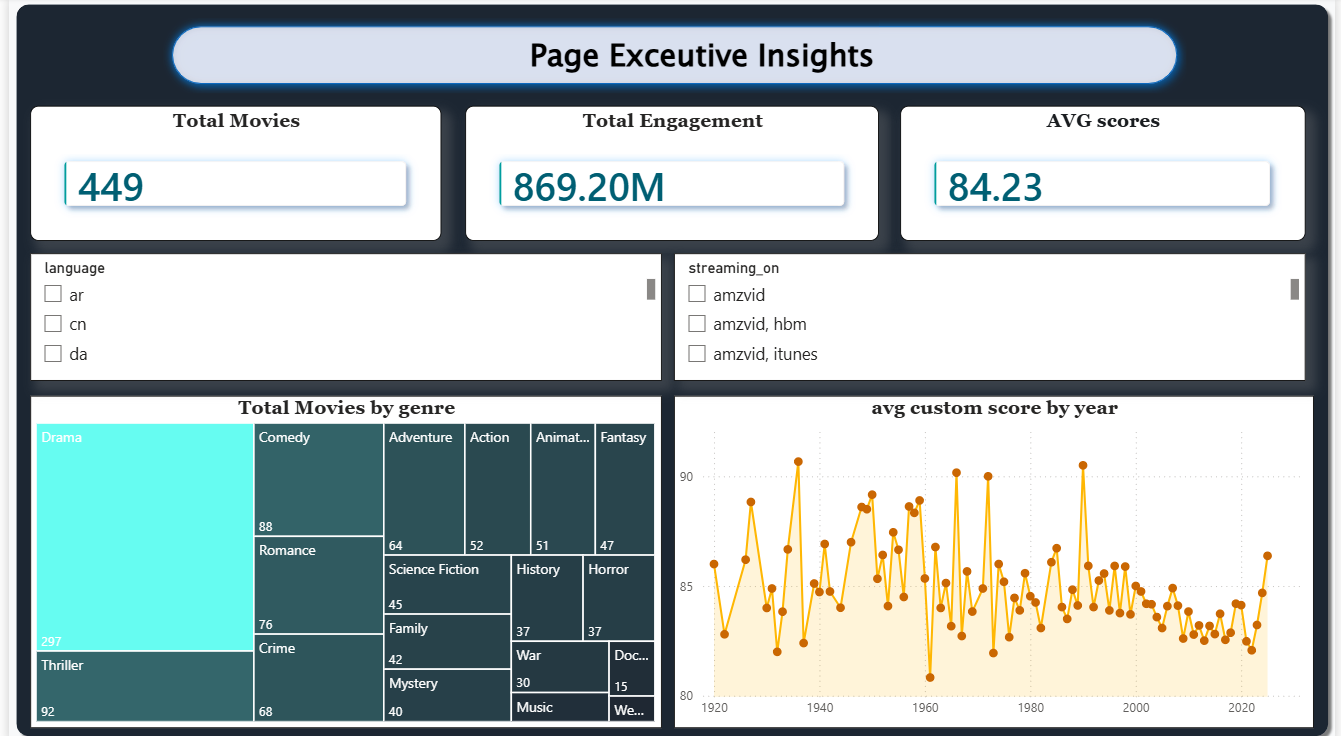

The page's visual inventory and layout, read from the dashboard file:
{"tool":"powerbi","page":{"name":"Page Executive Insights","canvas":[1280,720],"ordinal":0},"visuals":[{"type":"shape","box":[0,0,1280.3,720.4],"z":0},{"type":"cardVisual","title":"Total Movies","fields":{"Data":["dim_directors.Total movies"]},"box":[20.5,105,396.9,130.3],"z":1000},{"type":"cardVisual","title":"Total Engagement","fields":{"Data":["dim_directors.total engagment"]},"box":[440.4,105,399.3,130.3],"z":2000},{"type":"cardVisual","title":"AVG scores","fields":{"Data":["dim_directors.avg custom score"]},"box":[860.2,105,390.9,130.3],"z":3000},{"type":"treemap","fields":{"Group":["dim_genres.genre"],"Values":["dim_directors.Total movies"]},"box":[20.5,384.9,609.3,320.9],"z":4000},{"type":"areaChart","fields":{"Category":["dim_movies.year"],"Y":["dim_directors.avg custom score"]},"box":[641.8,384.9,617.7,320.9],"z":5000},{"type":"slicer","fields":{"Values":["dim_movies.language"]},"box":[20.5,247.3,609.3,123.1],"z":6000},{"type":"slicer","fields":{"Values":["dim_movies.streaming_on"]},"box":[641.8,247.3,609.3,123.1],"z":7000},{"type":"shape","box":[148.4,19.3,988.1,73.6],"z":7001},{"type":"textbox","title":"Page Exceutive Insights","box":[202.7,35,932.6,41],"z":7002}]}

Visuals, with their boxes in screenshot pixels (x1, y1, x2, y2), scaled from the page's 1280x720 canvas onto the 1341x736 screenshot:
shape: left=0, top=0, right=1340, bottom=735
"Total Movies" cardVisual: left=21, top=107, right=437, bottom=241
"Total Engagement" cardVisual: left=461, top=107, right=880, bottom=241
"AVG scores" cardVisual: left=901, top=107, right=1311, bottom=241
treemap - dim_genres.genre x dim_directors.Total movies: left=21, top=393, right=660, bottom=721
areaChart - dim_movies.year x dim_directors.avg custom score: left=672, top=393, right=1320, bottom=721
slicer - dim_movies.language: left=21, top=253, right=660, bottom=379
slicer - dim_movies.streaming_on: left=672, top=253, right=1311, bottom=379
shape: left=155, top=20, right=1191, bottom=95
"Page Exceutive Insights" textbox: left=212, top=36, right=1189, bottom=78
